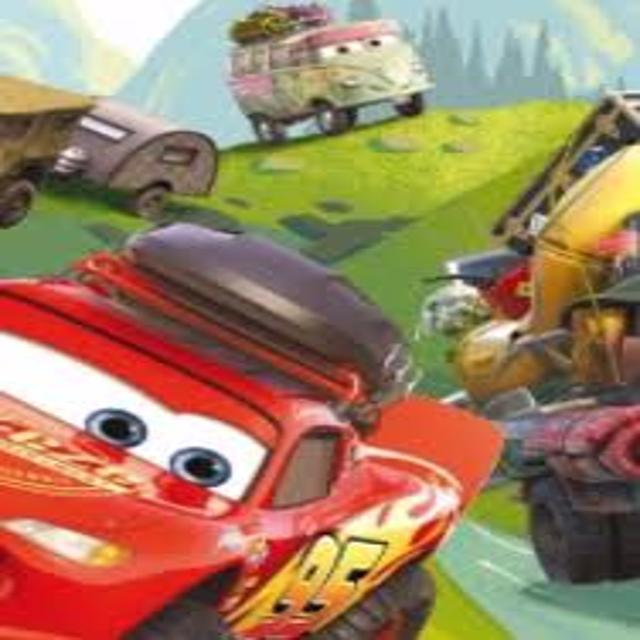car: (1, 222, 502, 640), (231, 5, 432, 142)
